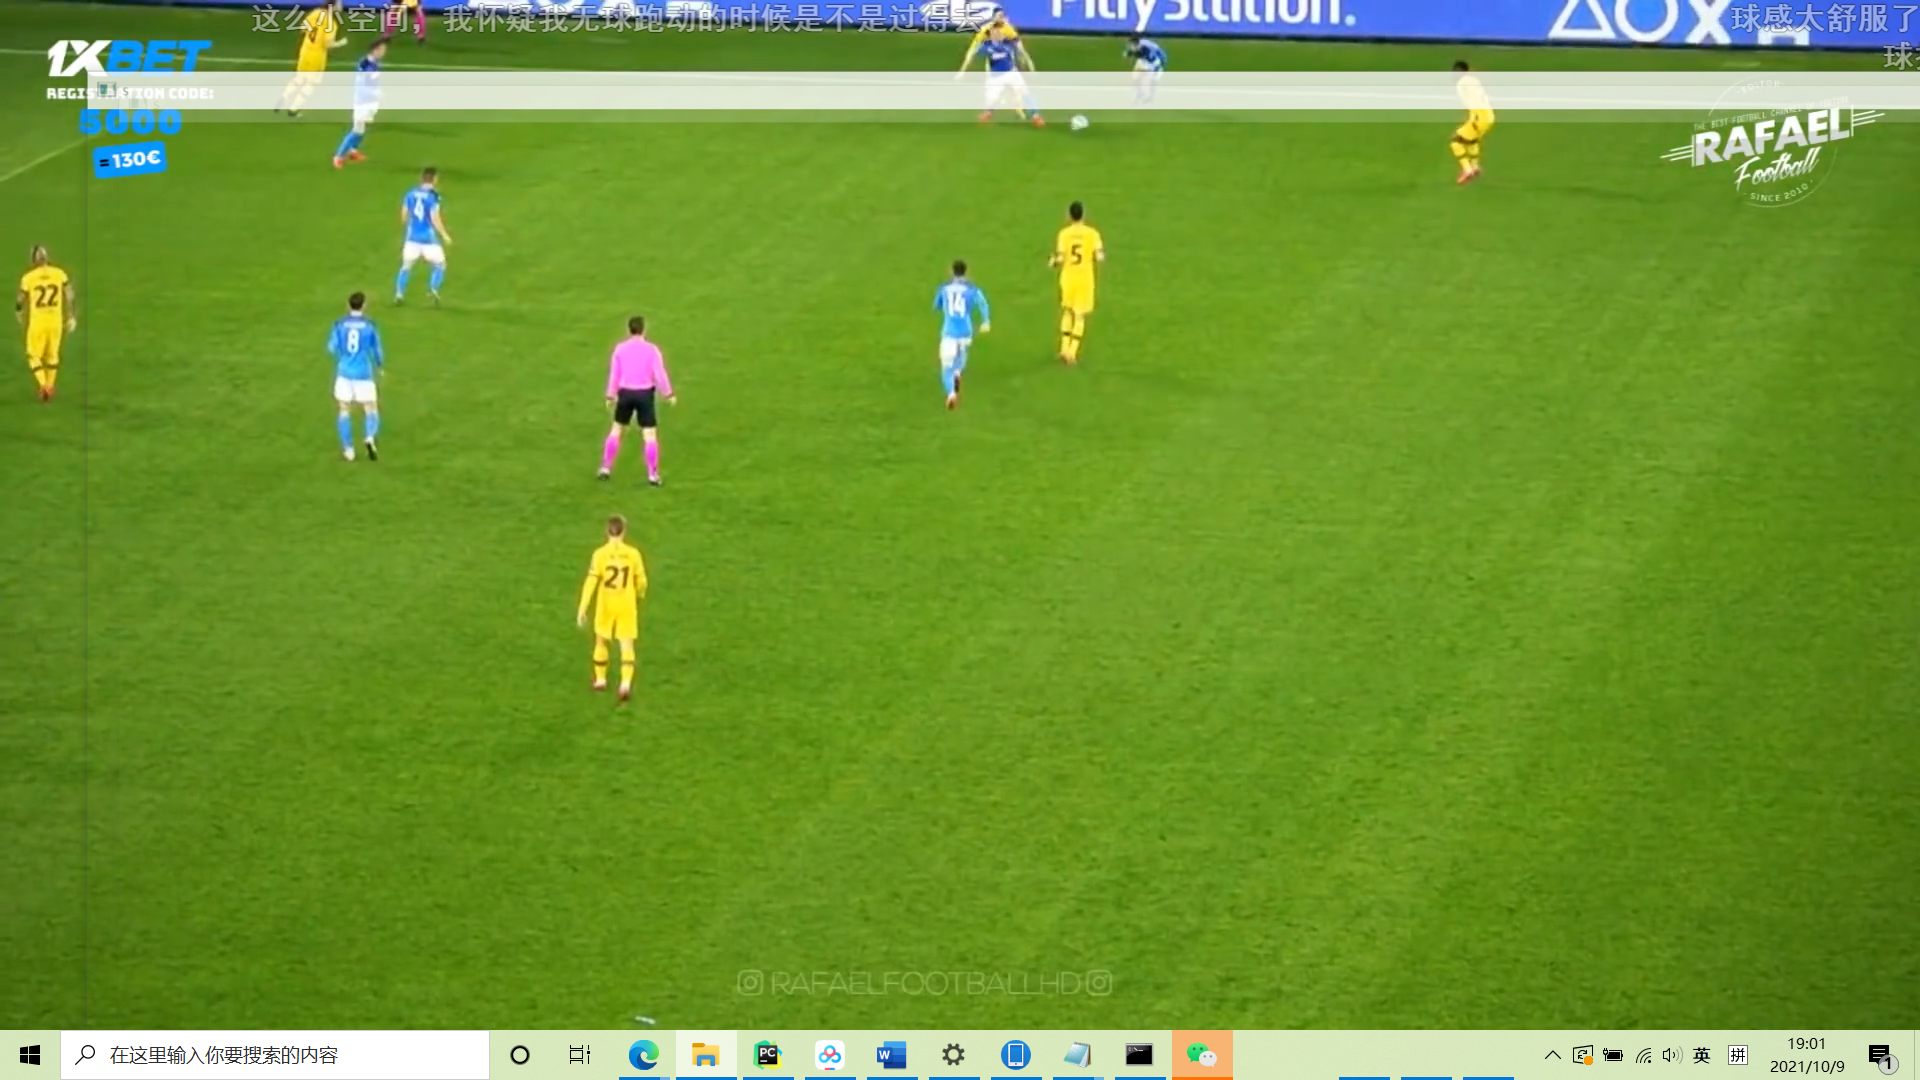ft: (1068, 112, 1091, 137)
